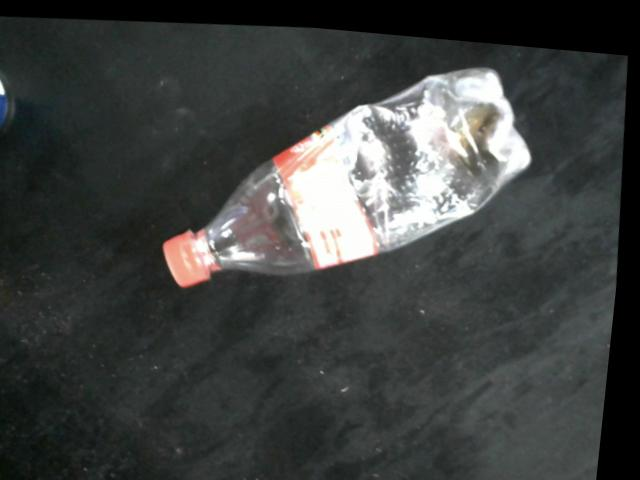bottle: (167, 56, 536, 286)
